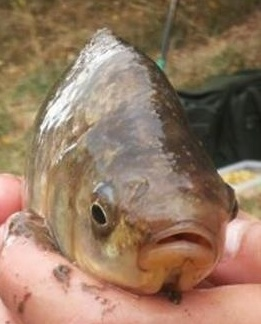Carassius carassius: (20, 20, 241, 304)
